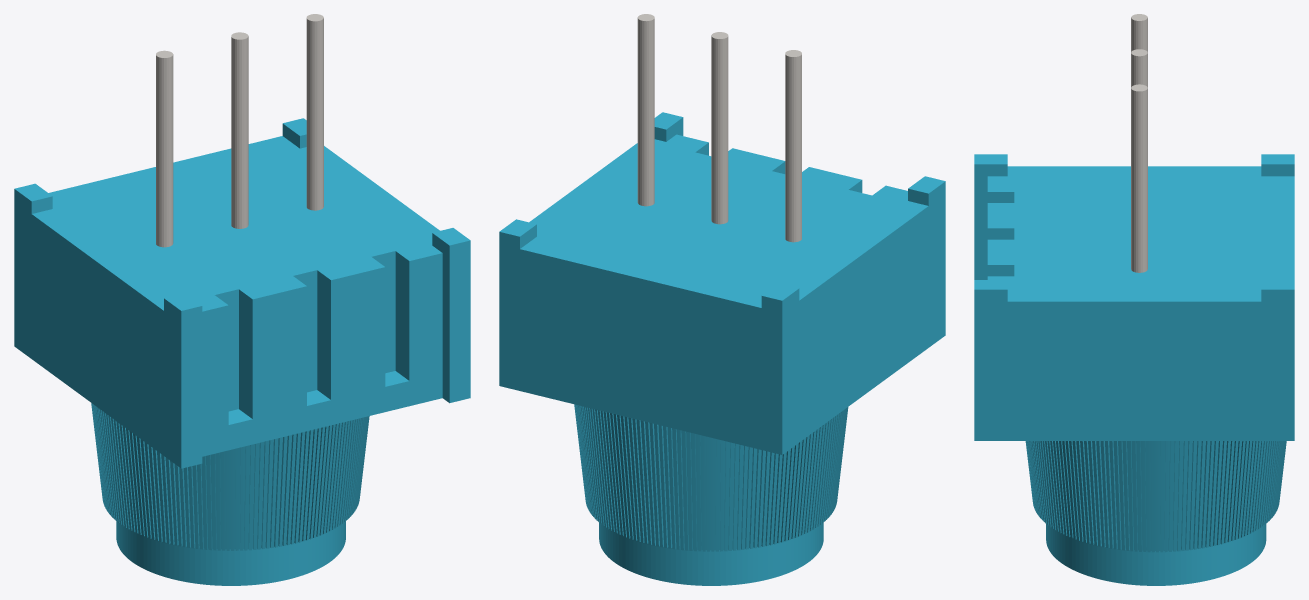
File: potentiometer.fbx
3 renders of one model, left to right at view 1: azimuth 30°, elevation 25°; view 2: azimuth 150°, elevation 25°; view 3: azimuth 270°, elevation 25°, orthographic. The views are drawn at different scales.
Visible parts, largest first — view 1: imagetostl_mesh1, imagetostl_mesh0, imagetostl_mesh2; view 2: imagetostl_mesh1, imagetostl_mesh0, imagetostl_mesh2; view 3: imagetostl_mesh1, imagetostl_mesh0, imagetostl_mesh2.
Part boxes in pixels (left/top/right/bottom): imagetostl_mesh1: left=14, top=189, right=470, bottom=585; imagetostl_mesh0: left=14, top=118, right=449, bottom=550; imagetostl_mesh2: left=156, top=14, right=323, bottom=247; imagetostl_mesh1: left=499, top=112, right=945, bottom=573; imagetostl_mesh0: left=499, top=117, right=945, bottom=585; imagetostl_mesh2: left=637, top=14, right=801, bottom=242; imagetostl_mesh1: left=974, top=228, right=1294, bottom=583; imagetostl_mesh0: left=974, top=154, right=1294, bottom=585; imagetostl_mesh2: left=1131, top=14, right=1147, bottom=272.
Size of the model in its own units: 960 by 1610 by 960.
